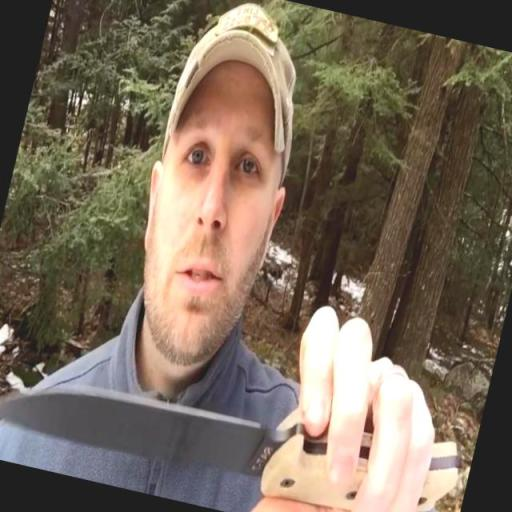knife: (0, 334, 466, 512)
